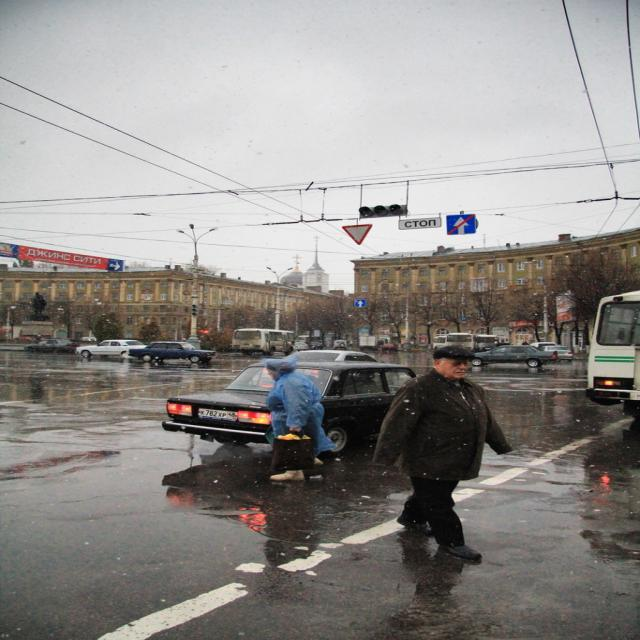off traffic light: (359, 203, 407, 218)
road_sign: (445, 213, 477, 234), (342, 224, 372, 245), (399, 218, 440, 229)
